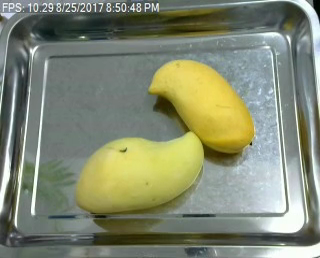Mango: (73, 126, 205, 217), (149, 53, 259, 154)
